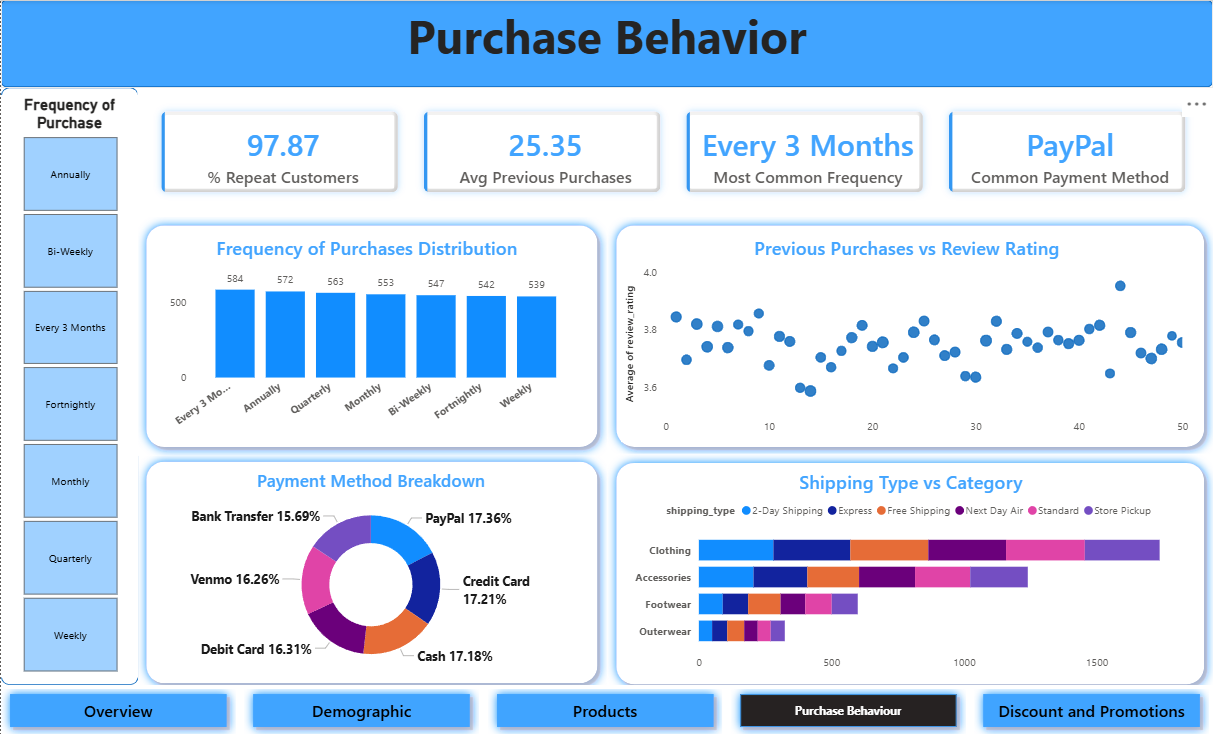

This screenshot's page, from the dashboard's own definition file:
{"tool":"powerbi","page":{"name":"Purchase Behaviour","canvas":[1400,850],"ordinal":3},"visuals":[{"type":"shape","box":[157.6,523.1,542.1,277.2],"z":0},{"type":"shape","box":[700,249.6,700,277],"z":1000},{"type":"shape","box":[700,523.5,700,277],"z":2000},{"type":"shape","box":[0,0,1399.5,100.5],"z":3000},{"type":"shape","box":[0,101.1,158.8,690.1],"z":4000},{"type":"shape","box":[157.6,250,542.1,277.2],"z":5000},{"type":"cardVisual","fields":{"Data":["customer.% Repeat Customers","customer.Avg Previous Purchases","customer.Most Common Frequency","customer.Most Common Payment Method"]},"box":[157.6,100.5,1241.9,149.5],"z":6000},{"type":"clusteredColumnChart","title":"Frequency of Purchases Distribution","fields":{"Category":["customer.frequency_of_purchases"],"Y":["CountNonNull(customer.frequency_of_purchases)"]},"box":[175,270.9,496.1,232.8],"z":7000},{"type":"donutChart","title":"Payment Method Breakdown","fields":{"Category":["customer.payment_method"],"Y":["customer.Total_Customers"]},"box":[175.3,540.8,505.4,241.8],"z":8000},{"type":"scatterChart","title":"Previous Purchases vs Review Rating","fields":{"X":["customer.previous_purchases"],"Y":["Avg(customer.review_rating)"],"Size":["customer.Total Rows"]},"box":[716.7,270.9,660.4,238.9],"z":9000},{"type":"barChart","title":"Shipping Type vs Category","fields":{"Category":["customer.category"],"Y":["customer.Total_Customers"],"Series":["customer.shipping_type"]},"box":[725.5,540.8,649.5,241.8],"z":10000},{"type":"textbox","box":[0,0,1399.5,100.5],"z":11000},{"type":"slicer","title":"Frequency of Purchase","fields":{"Values":["customer.frequency_of_purchases"]},"box":[0,109.6,158.3,672.6],"z":12000},{"type":"pageNavigator","box":[0,791.1,1398.9,59.2],"z":13000}]}

Visuals, with their boxes in screenshot pixels (x1, y1, x2, y2), scaled from the page's 1400x850 canvas onto the 1213x734 screenshot:
shape: crop(137, 452, 606, 691)
shape: crop(606, 216, 1212, 455)
shape: crop(606, 452, 1212, 691)
shape: crop(0, 0, 1212, 87)
shape: crop(0, 87, 138, 683)
shape: crop(137, 216, 606, 455)
cardVisual - customer.% Repeat Customers x customer.Avg Previous Purchases: crop(137, 87, 1212, 216)
"Frequency of Purchases Distribution" clusteredColumnChart: crop(152, 234, 581, 435)
"Payment Method Breakdown" donutChart: crop(152, 467, 590, 676)
"Previous Purchases vs Review Rating" scatterChart: crop(621, 234, 1193, 440)
"Shipping Type vs Category" barChart: crop(629, 467, 1191, 676)
textbox: crop(0, 0, 1212, 87)
"Frequency of Purchase" slicer: crop(0, 95, 137, 675)
pageNavigator: crop(0, 683, 1212, 733)
